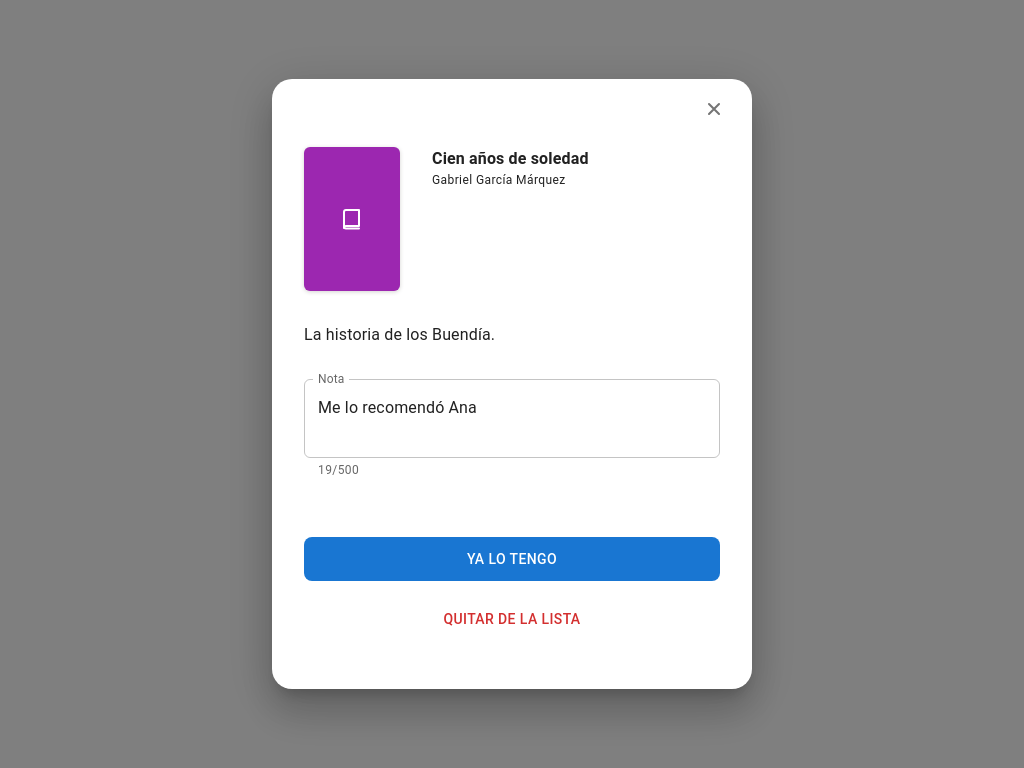
Test: Given the sheet of a wishlist item › When the user is choosing the reading status › Then the back arrow, opposite the cross, returns to the two actions without adding anything
Click the button "Ya lo tengo" at (512, 559), box [304,537,720,581]
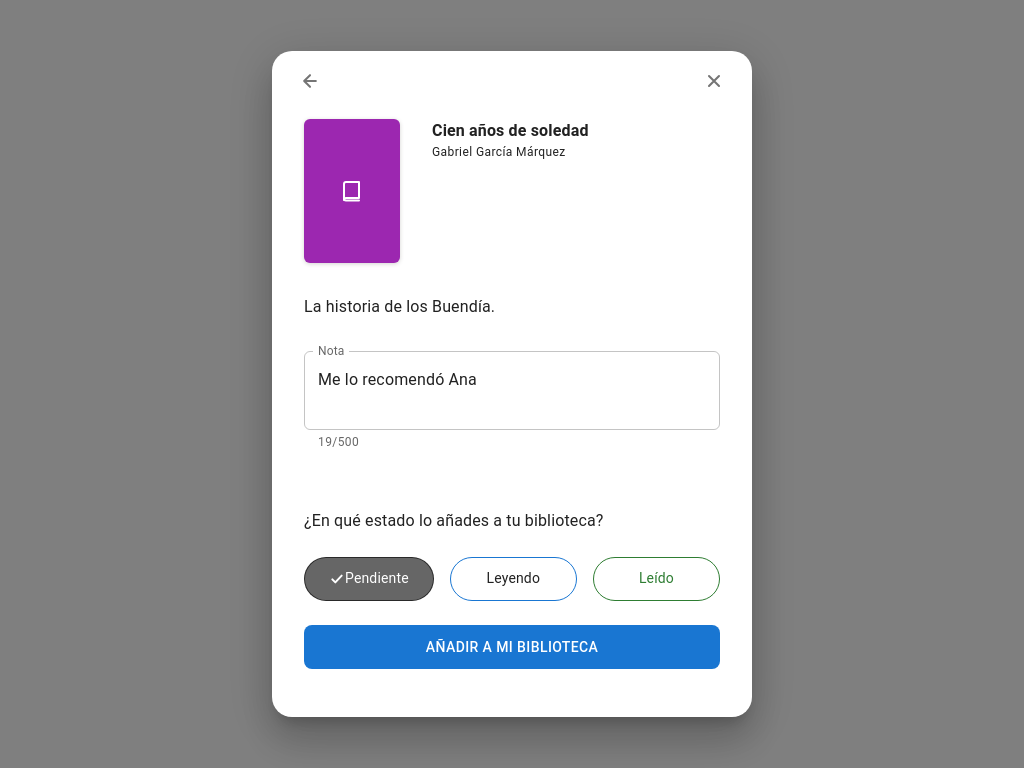
Click the button named "Volver" at (310, 81), box [288,59,332,103]
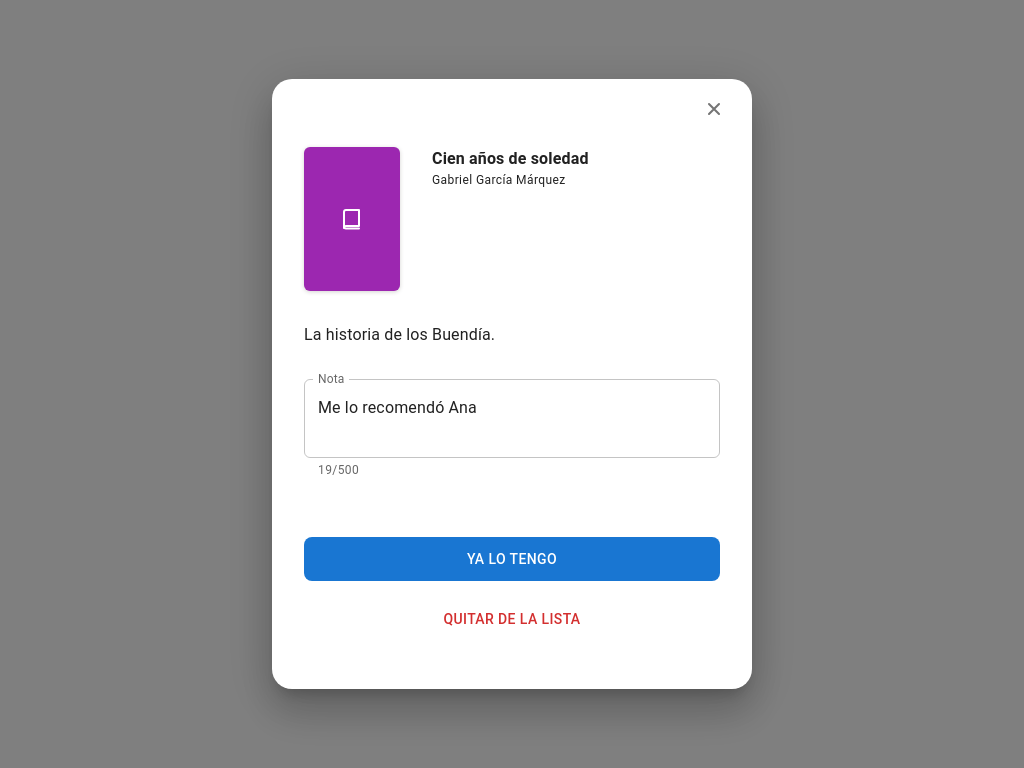
Now the button "Ya lo tengo" is shown, box [304,537,720,581]
Now the button "Añadir a mi biblioteca" is gone
